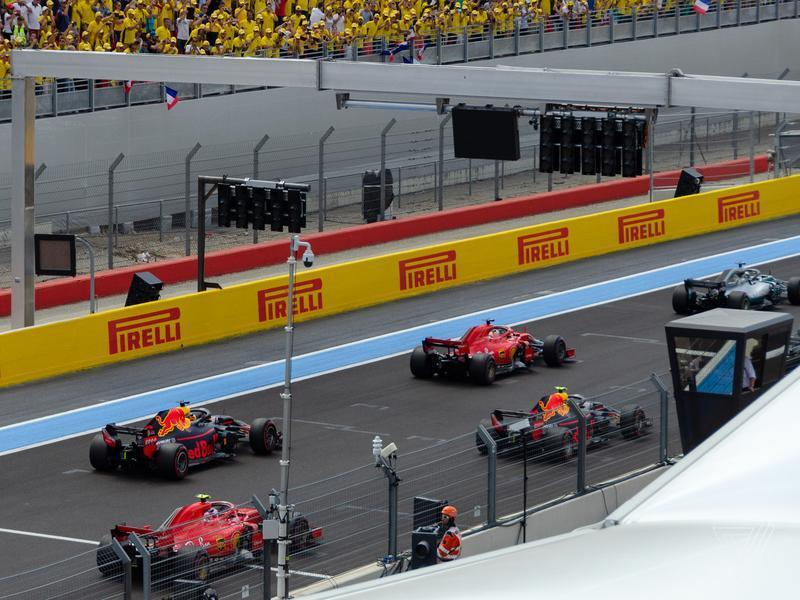f1: (83, 389, 315, 487), (96, 497, 337, 589), (472, 391, 674, 466), (413, 311, 571, 386), (670, 249, 800, 313)
